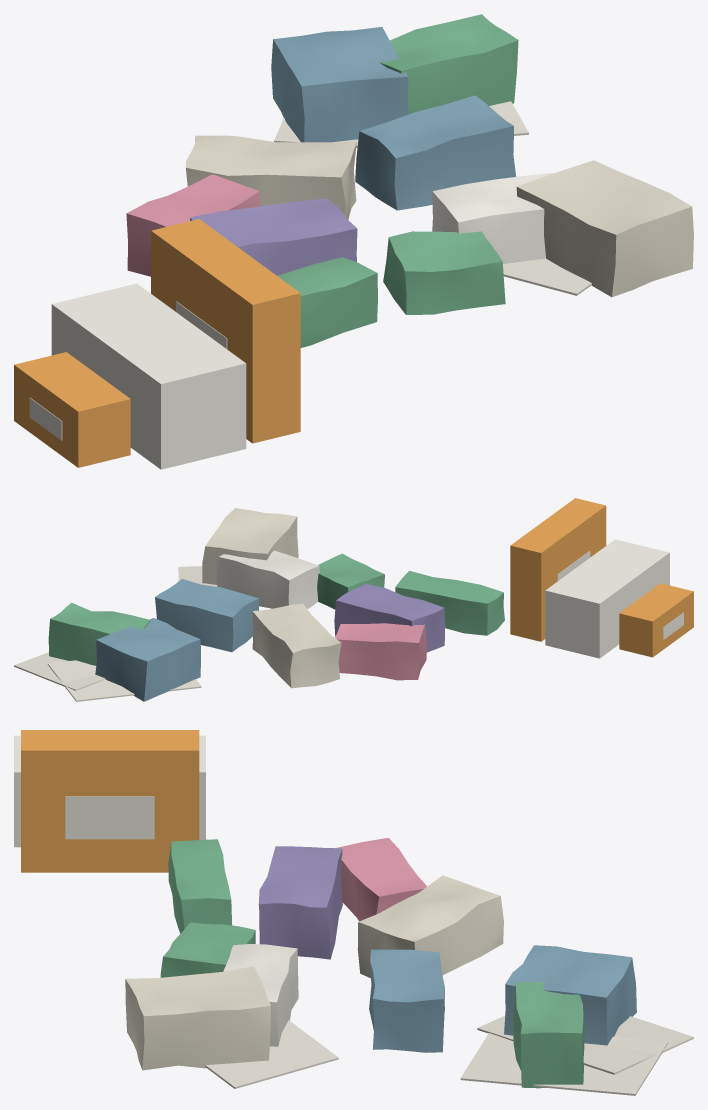
Rendered from med_boxes_broken.fbx.
3 views of the same model, one above another, from view 1: azimuth 30°, elevation 25°; view 2: azimuth 150°, elevation 25°; view 3: azimuth 270°, elevation 25° (orthographic). The views are drawn at different scales.
Parts seen in each view (by area): view 1: med_boxes_broken_debris, med_boxes_broken; view 2: med_boxes_broken_debris, med_boxes_broken; view 3: med_boxes_broken_debris, med_boxes_broken.
Boxes of the visible parts, left/top/right/bottom form: med_boxes_broken_debris: left=126, top=14, right=693, bottom=347; med_boxes_broken: left=14, top=219, right=300, bottom=469; med_boxes_broken_debris: left=14, top=508, right=504, bottom=701; med_boxes_broken: left=510, top=498, right=693, bottom=658; med_boxes_broken_debris: left=125, top=837, right=693, bottom=1095; med_boxes_broken: left=14, top=730, right=205, bottom=872.
Bounding box in the file's own units: 73.45 × 13.7 × 67.33.
